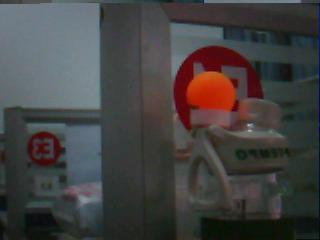oball: (187, 71, 235, 111)
